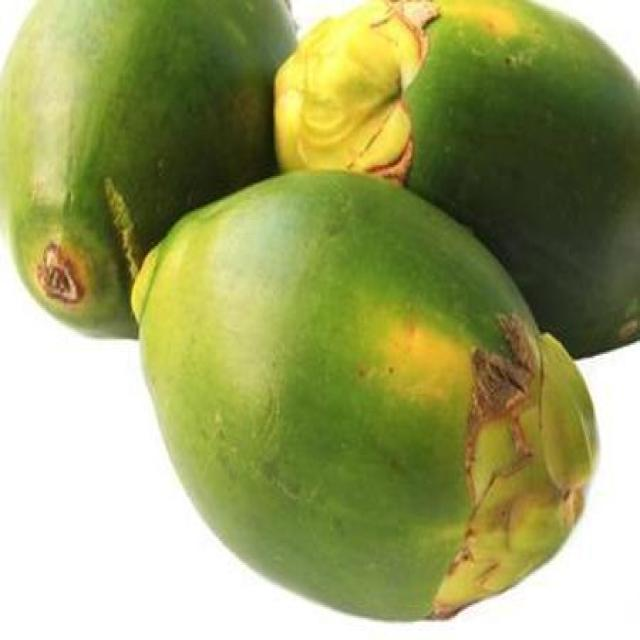good: (128, 171, 599, 625), (273, 0, 639, 361)
